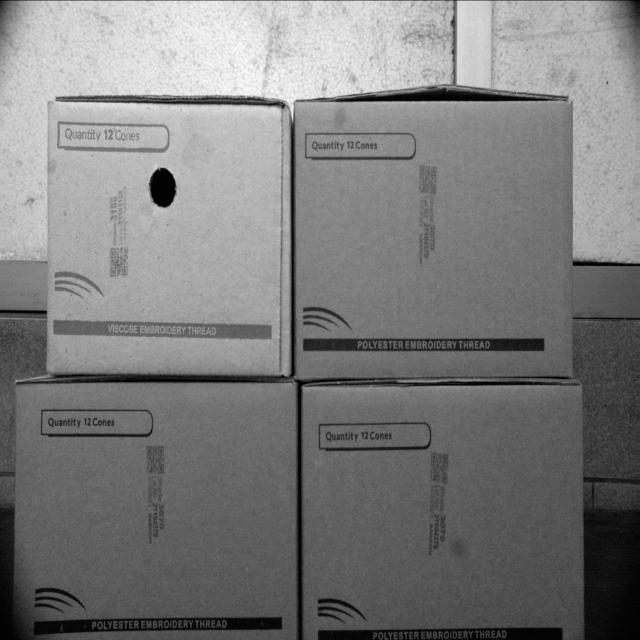cardboxes: (298, 98, 574, 377), (16, 386, 293, 639), (306, 385, 581, 639), (48, 100, 288, 374)
